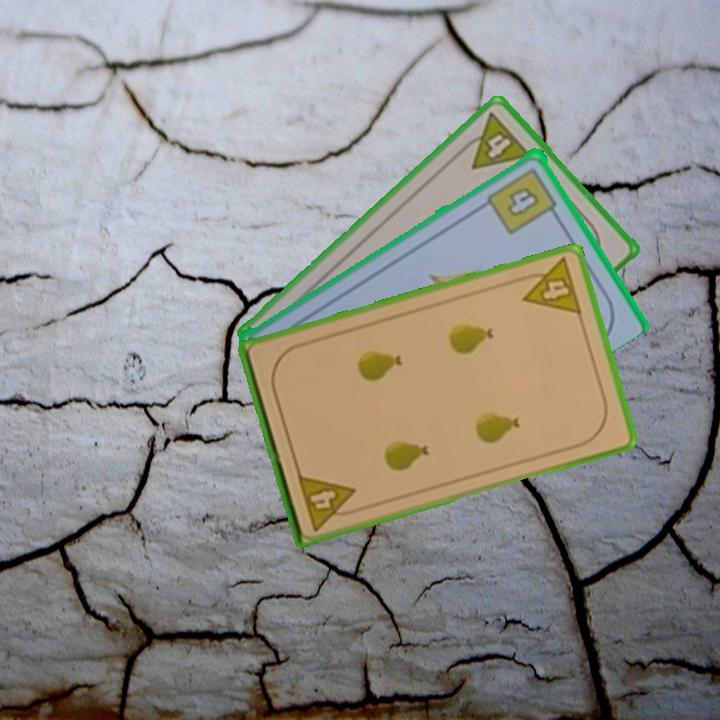4b: (484, 164, 562, 237)
4p: (454, 108, 535, 173), (514, 254, 585, 318), (294, 470, 363, 534)
